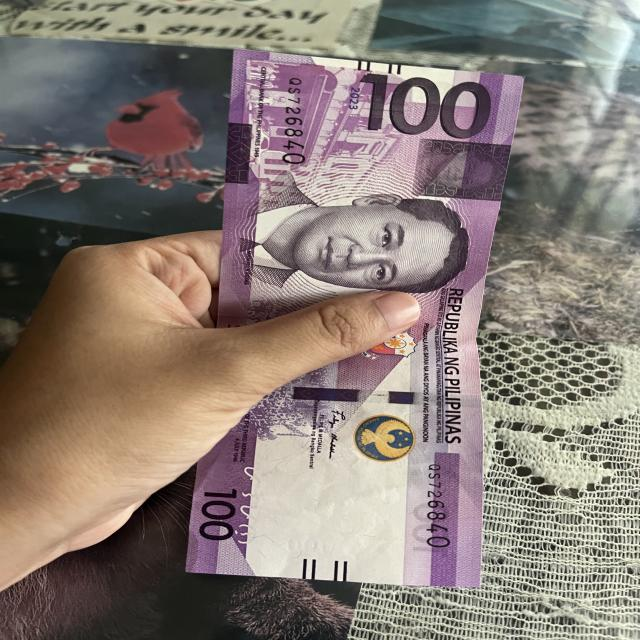concealed_value: (406, 137, 512, 205)
security_thread: (243, 388, 476, 410)
see_through_mark: (228, 460, 274, 556)
serial_number: (274, 69, 313, 169), (420, 462, 458, 556)
value: (344, 66, 497, 141)
